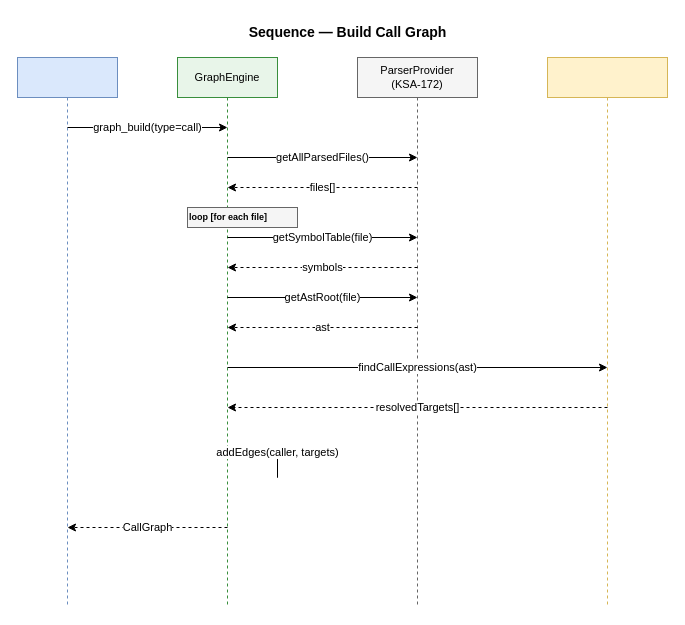
Image size: 685x625. Some labels were removed from this diagram. Here are the shapes that lost their labels. From the top down, the box of each, then its label:
(16, 56, 118, 608): MCP Client
(546, 56, 668, 608): SymbolResolver
